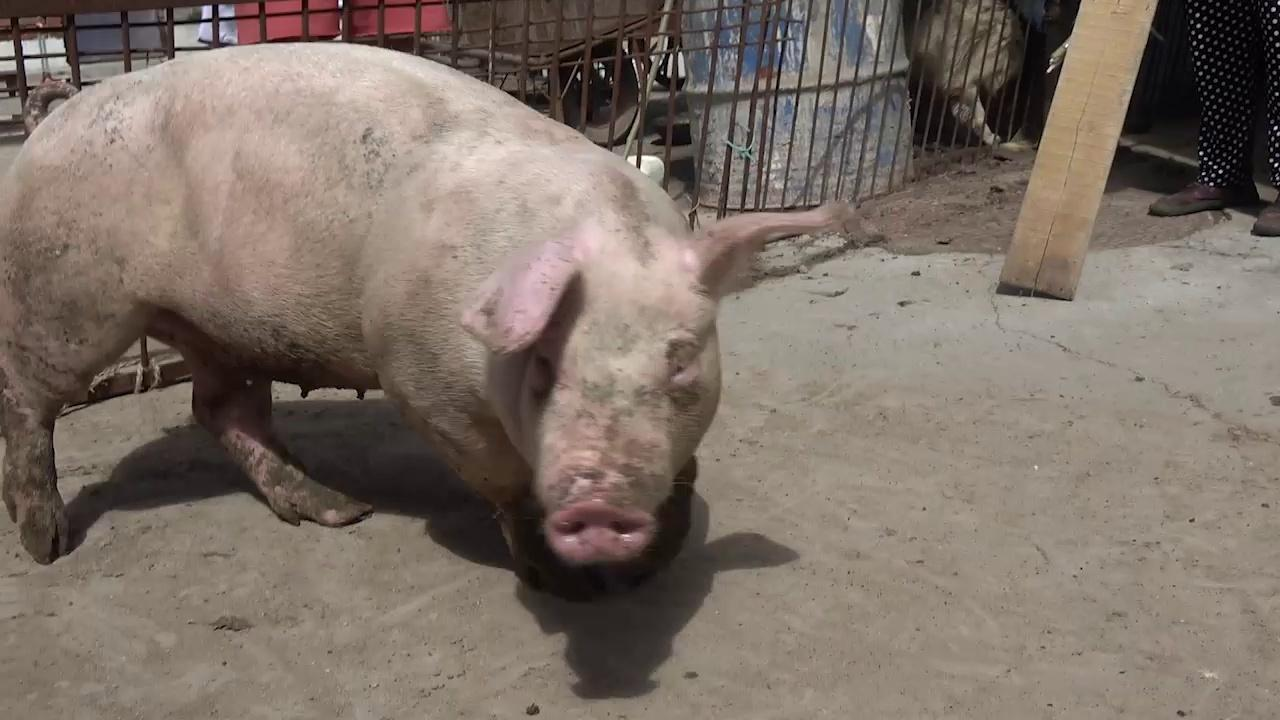Face: (462, 197, 858, 575)
